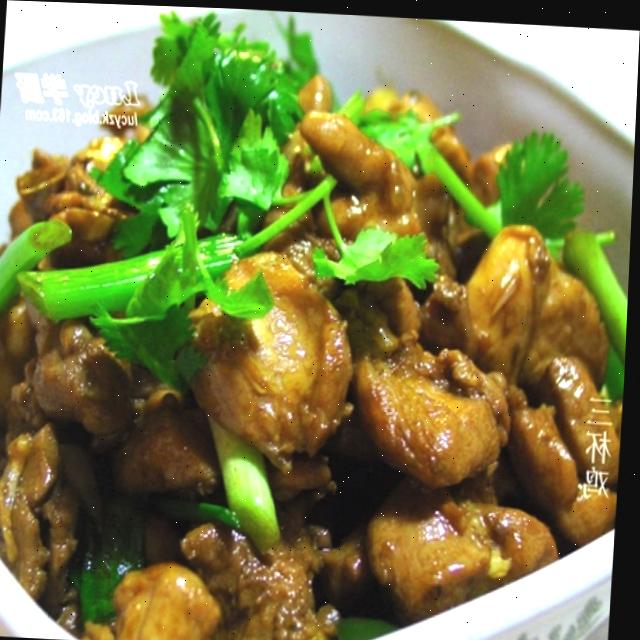鸡肉料理 含炸鸡: (8, 19, 628, 640)
